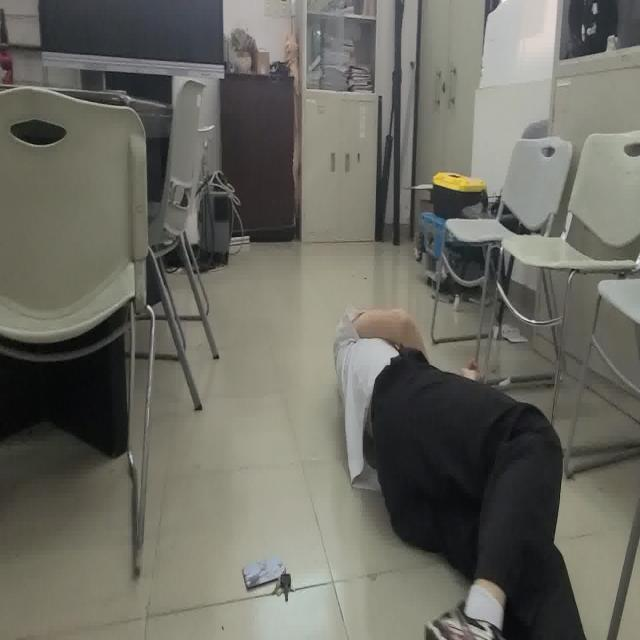Fall-Detected: (336, 306, 589, 640)
